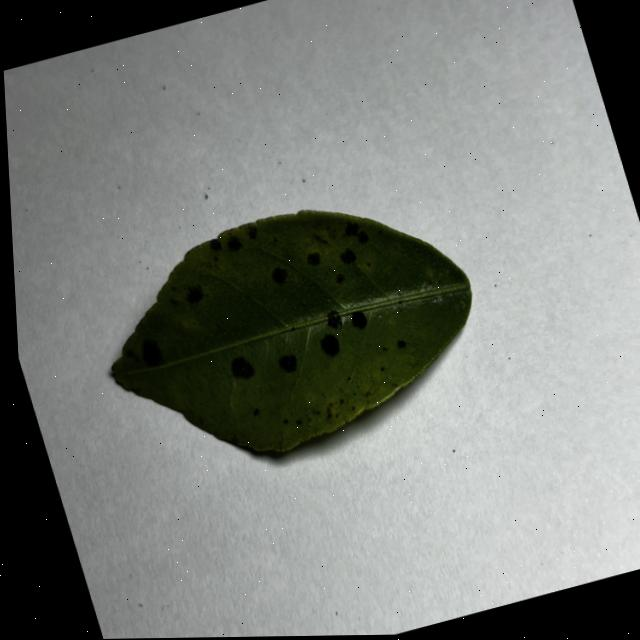sooty_mold: (112, 210, 471, 451)
